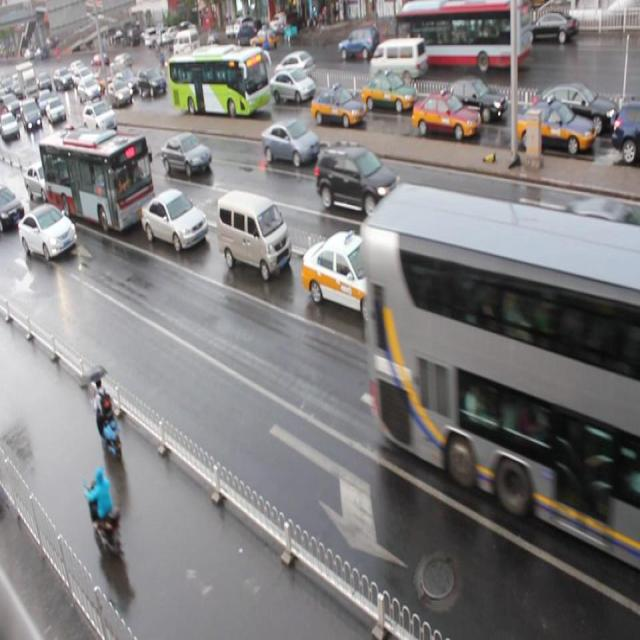car: (300, 229, 403, 321), (314, 142, 402, 219), (531, 80, 616, 138), (515, 100, 594, 160), (140, 188, 208, 252), (562, 197, 623, 260), (412, 90, 479, 146), (18, 202, 78, 260), (608, 330, 640, 432), (442, 78, 505, 124), (262, 120, 321, 169), (361, 72, 416, 115), (310, 87, 366, 129), (161, 134, 211, 178), (610, 100, 640, 161), (102, 132, 150, 170), (22, 160, 62, 204), (269, 68, 316, 104), (82, 103, 119, 138), (1, 184, 24, 232), (105, 81, 134, 110), (138, 66, 166, 96)
truck: (438, 240, 568, 389), (215, 188, 290, 284)
van: (361, 181, 640, 569), (38, 127, 154, 235), (169, 46, 269, 118)
